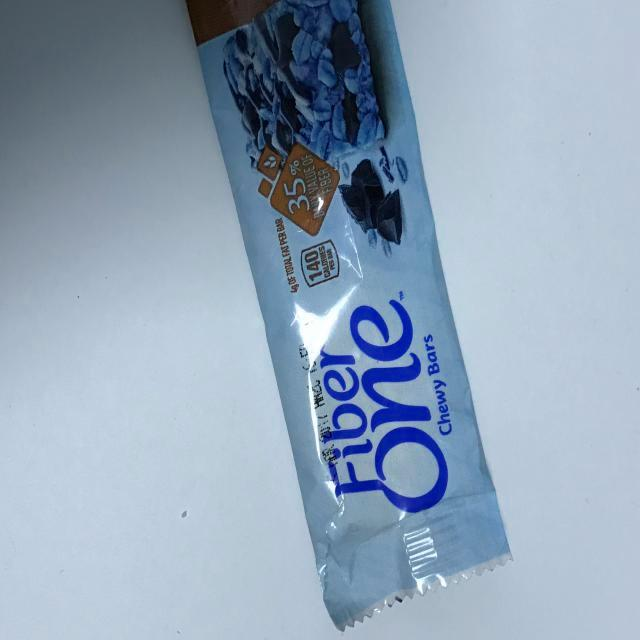plastic: (156, 0, 518, 640)
